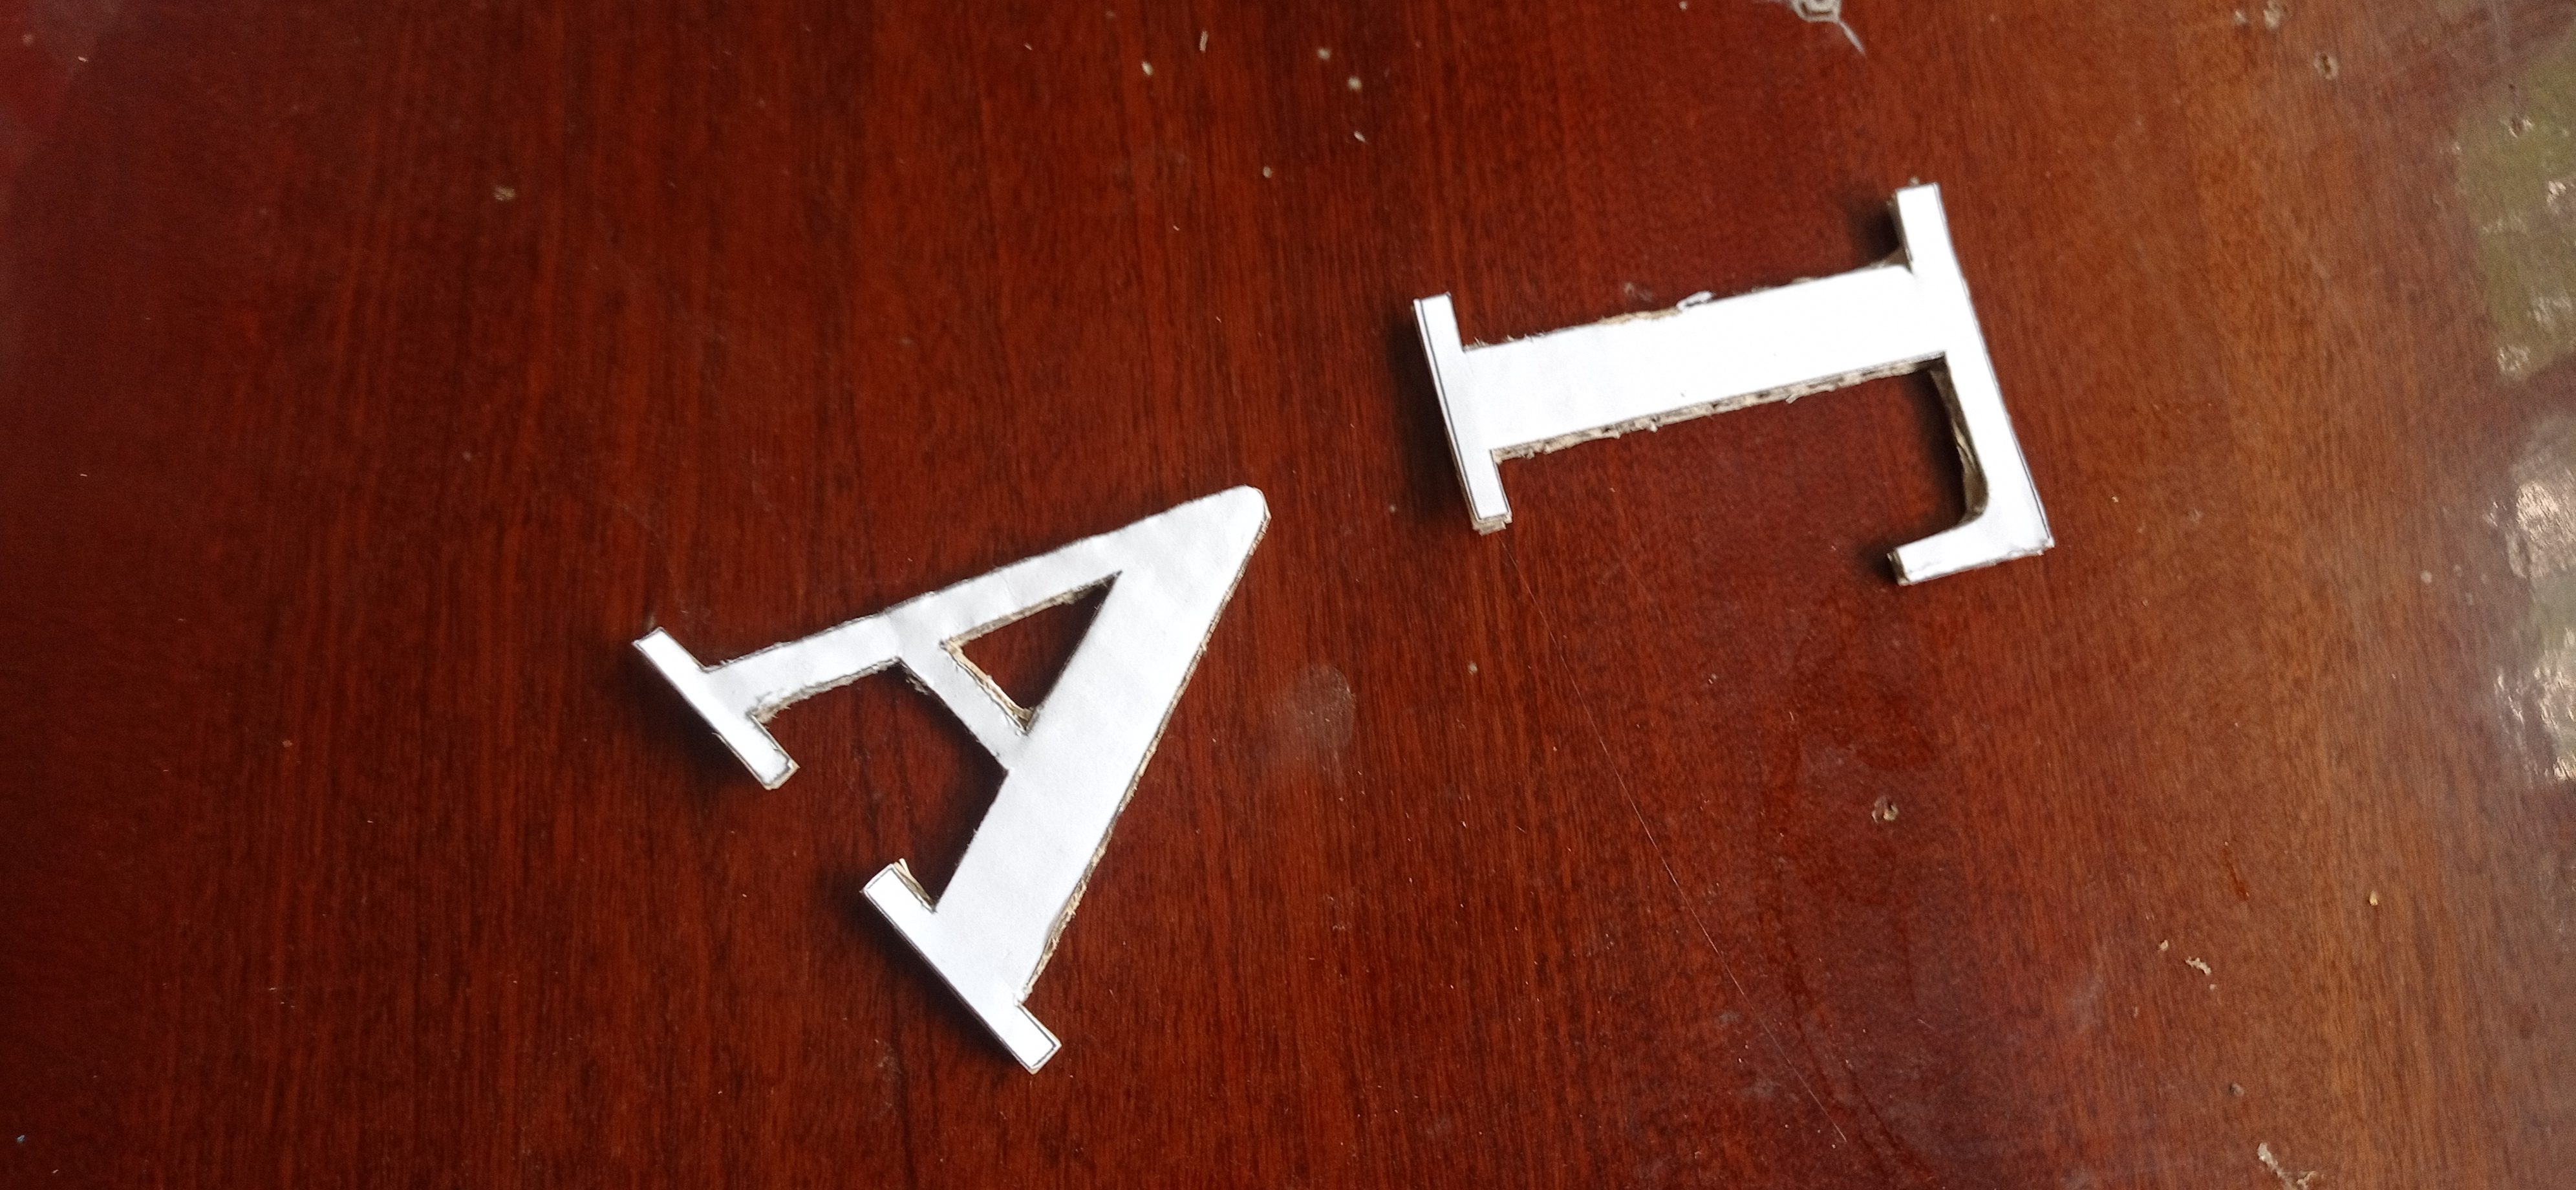a: (631, 475, 1273, 1082)
g: (1413, 181, 2055, 597)
